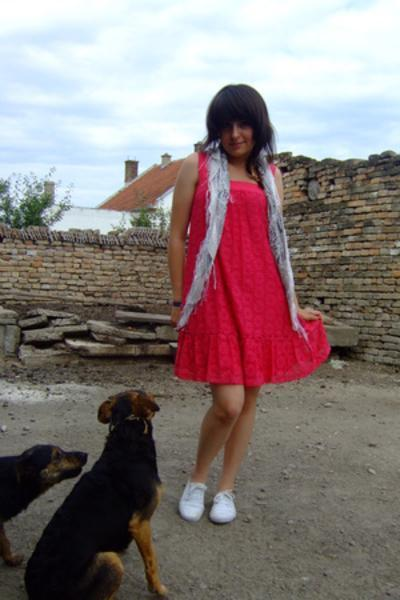dress: (173, 156, 330, 395)
shoe: (180, 483, 235, 520)
